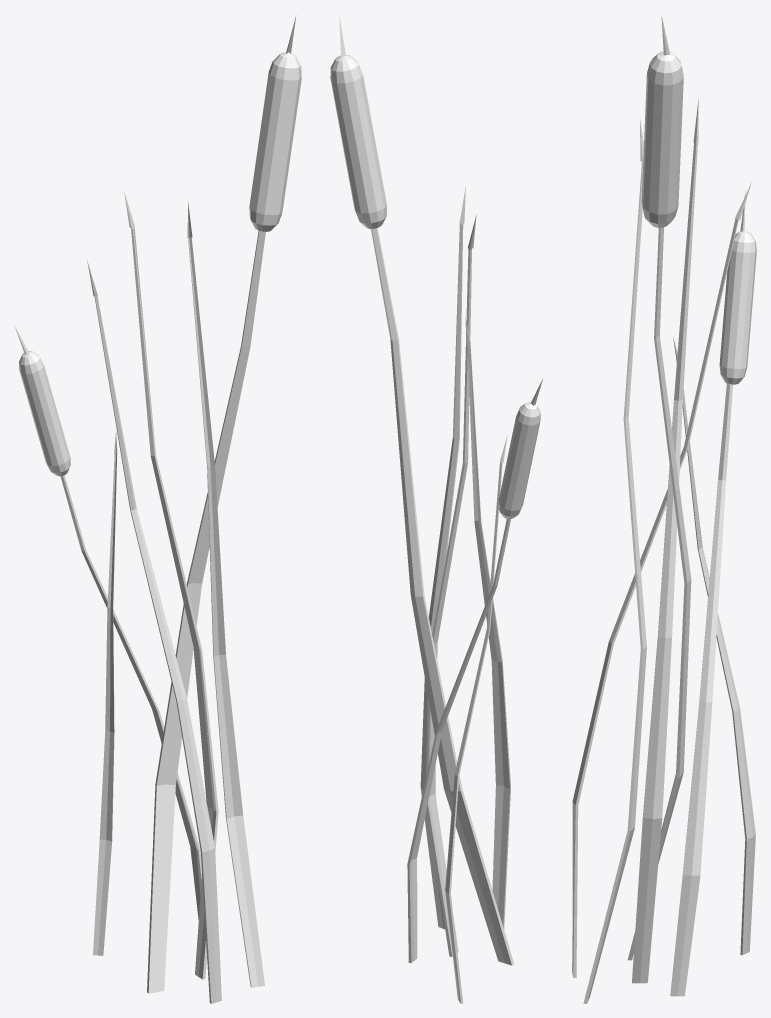
Rendered from juncos.fbx.
3 views of the same model, side by side, from view 1: azimuth 30°, elevation 25°; view 2: azimuth 150°, elevation 25°; view 3: azimuth 270°, elevation 25° (orthographic). The views are drawn at different scales.
Visible parts, largest first — view 1: juncos; view 2: juncos; view 3: juncos.
Part boxes in pixels (x1,y1,x2,y2): juncos: (14, 15, 301, 1003); juncos: (330, 16, 542, 1003); juncos: (572, 16, 756, 1003).
Size of the model in its own units: 240 by 856 by 140.
